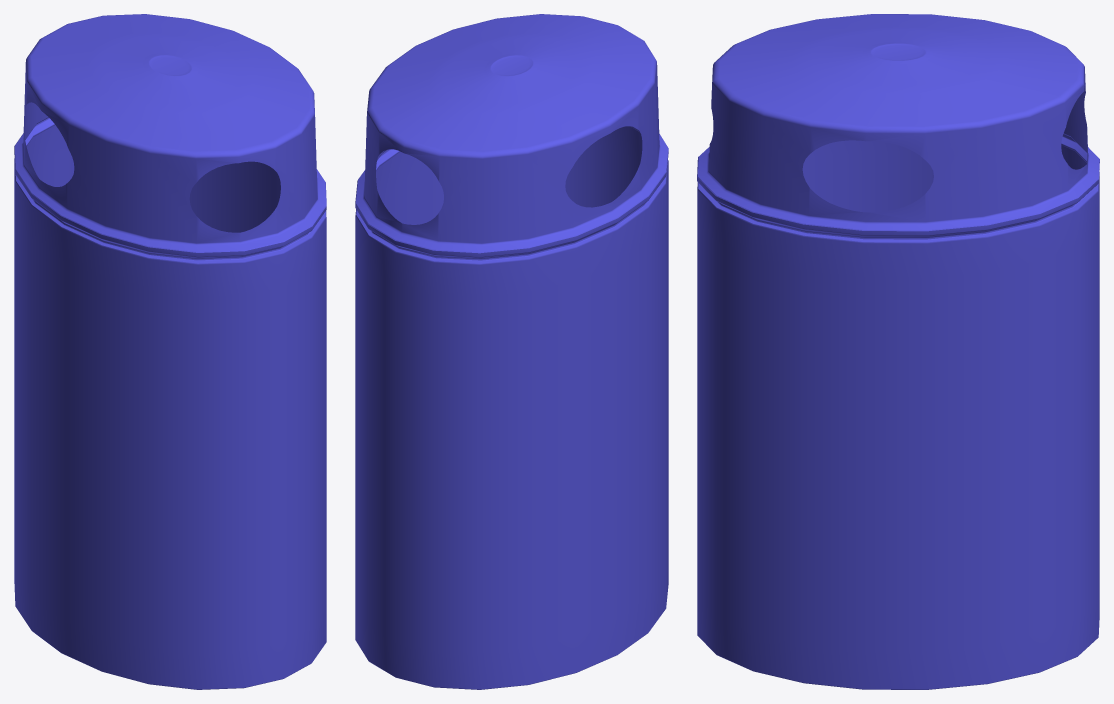
File: Recycling_Bin.fbx
The picture shows the model from 3 angles, left to right: view 1: azimuth 30°, elevation 25°; view 2: azimuth 150°, elevation 25°; view 3: azimuth 270°, elevation 25°; orthographic projection. The views are drawn at different scales.
Parts seen in each view (by area): view 1: polySurface1130; view 2: polySurface1130; view 3: polySurface1130.
Part boxes in pixels (x1=…): polySurface1130: x1=14, y1=14, x2=326, y2=689; polySurface1130: x1=355, y1=14, x2=668, y2=689; polySurface1130: x1=697, y1=14, x2=1099, y2=689.
Size of the model in its own units: 0.325 by 0.6905 by 0.4384.
